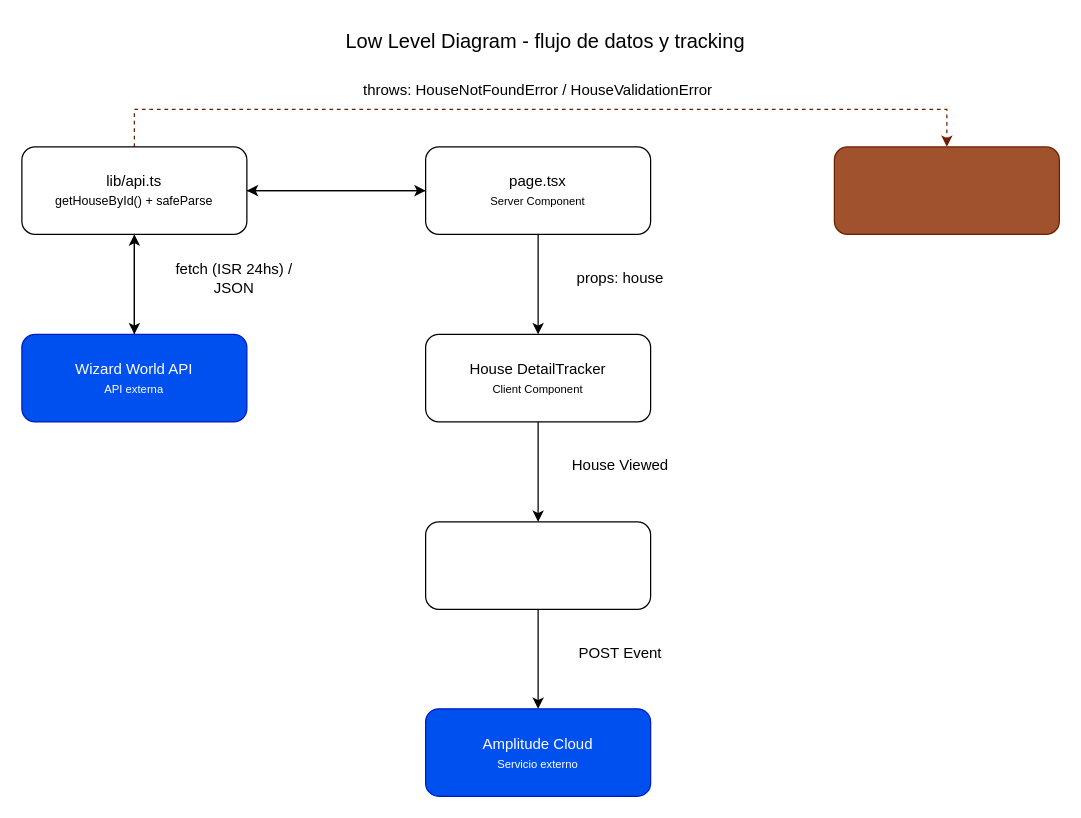
Image size: 1081x818. Some labels were removed from this diagram. The box of each missing label's shape, as (x1, y1, x2, y2) in pixels:
Error Boundary error.tsx / not-found.tsx: (833, 146, 1059, 234)
lib/amplitude.ts track(): (424, 521, 651, 609)
